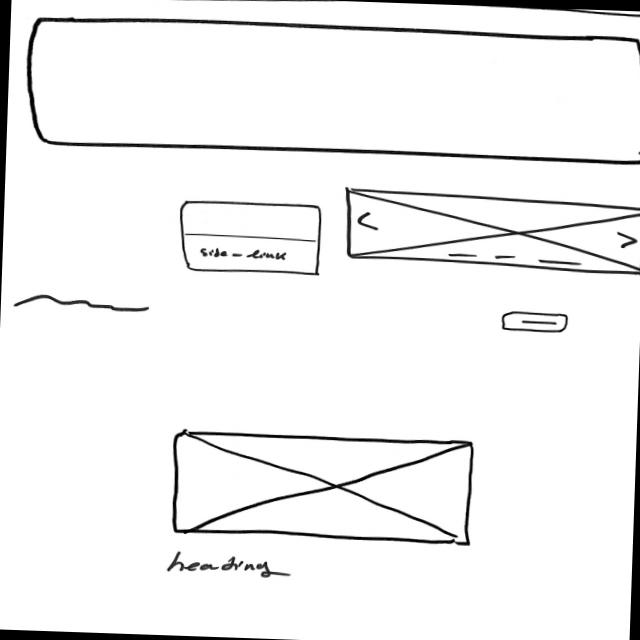container: (23, 14, 640, 165), (176, 198, 323, 276)
icon-button: (500, 308, 570, 334)
image: (167, 427, 476, 547), (341, 185, 640, 274)
label: (164, 550, 290, 579), (198, 247, 288, 262)
text: (12, 292, 150, 312)
